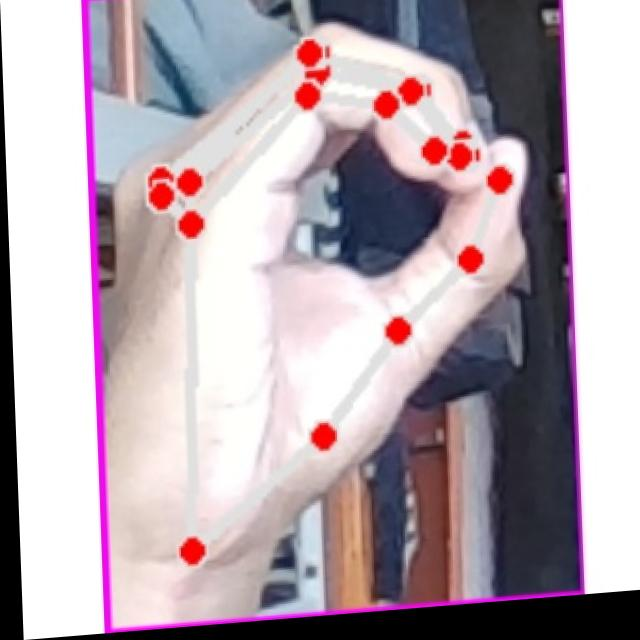O: (97, 0, 557, 592)
